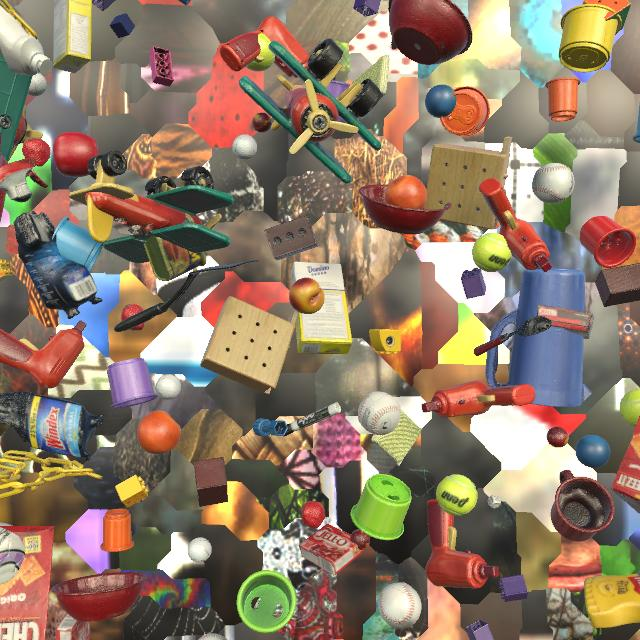ycb_003_cracker_box: (0, 526, 54, 640), (611, 416, 640, 514)
ycb_004_sugar_box: (291, 262, 352, 354), (53, 0, 92, 73)
ycb_006_mustard_bottle: (584, 573, 640, 628)
ycb_008_pudding_box: (537, 305, 594, 339)
ycb_009_gelatin_box: (299, 523, 363, 576), (56, 614, 91, 640)
ycb_010_potted_meat_can: (144, 214, 206, 281)
ycb_012_strawberry: (22, 138, 50, 167), (121, 304, 145, 331), (301, 501, 325, 528)
ycb_013_apple: (53, 132, 99, 177)
ycb_015_peach: (289, 278, 325, 314)
ycb_017_orange: (137, 411, 181, 454), (384, 175, 427, 209)
